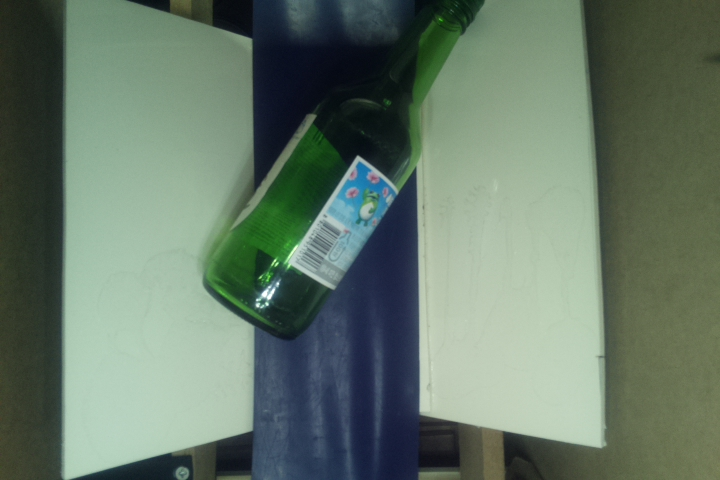soju: (202, 1, 486, 342)
